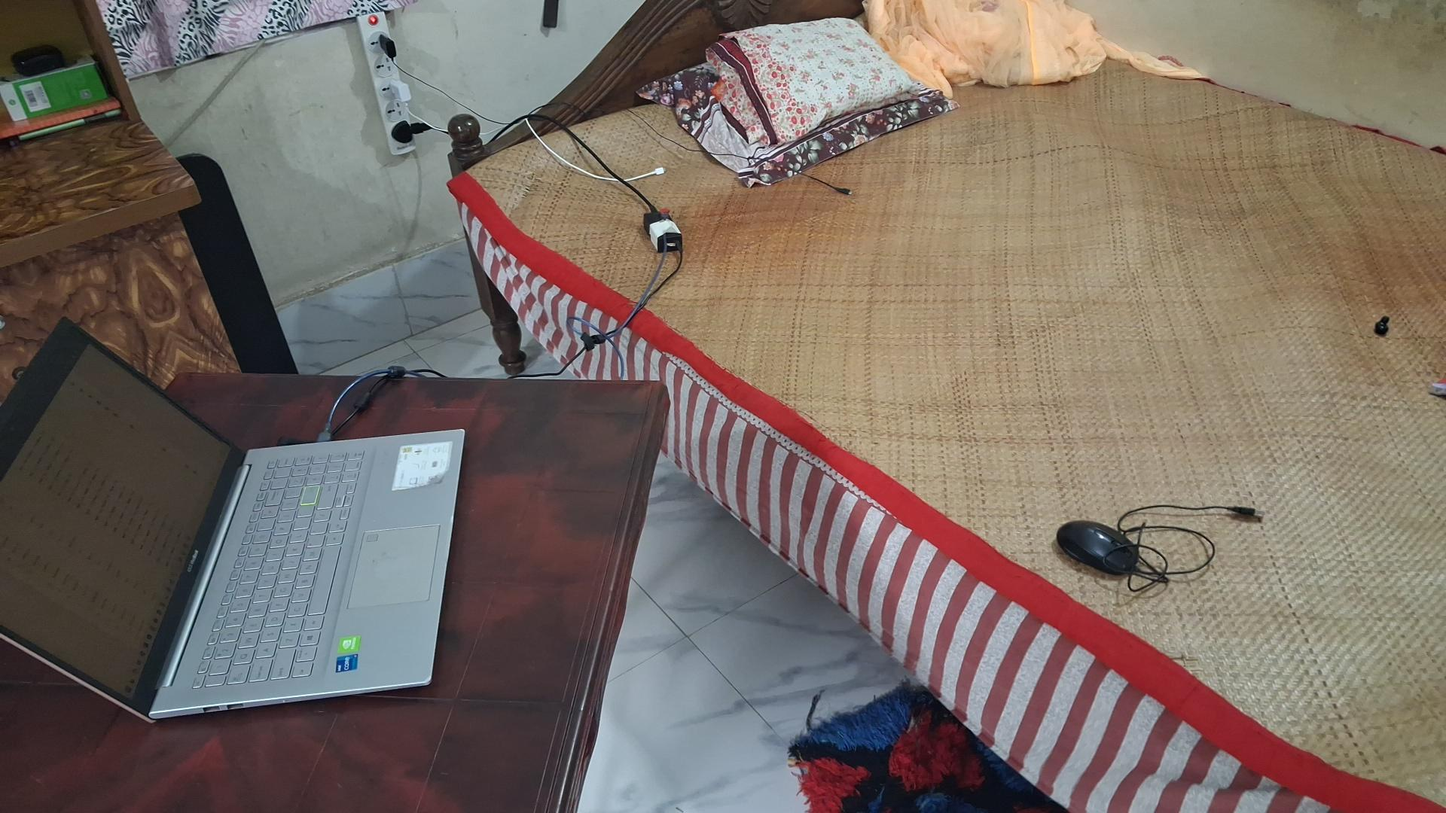Blanket: (706, 13, 918, 150)
Laptop: (1, 315, 463, 723)
Mouse: (1056, 521, 1139, 576)
Table: (0, 376, 671, 805)
